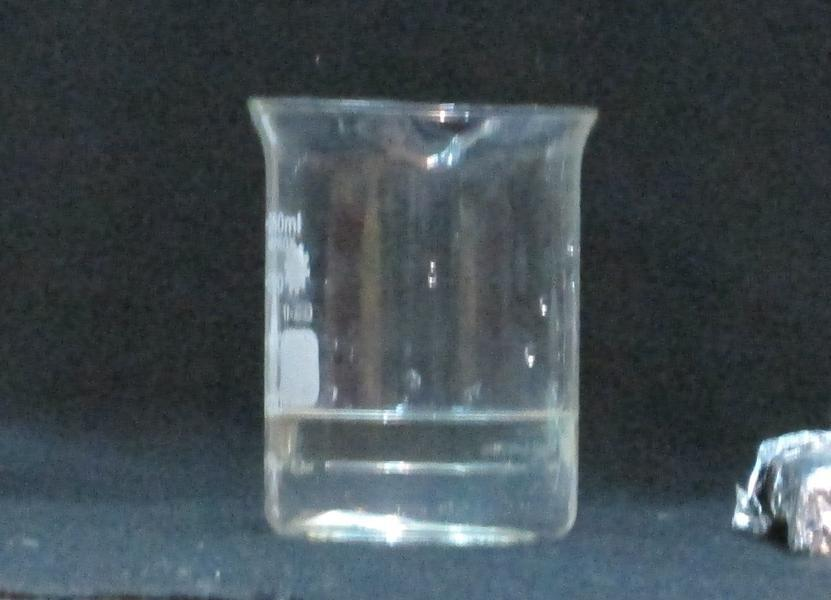Beaker: (239, 88, 602, 555)
